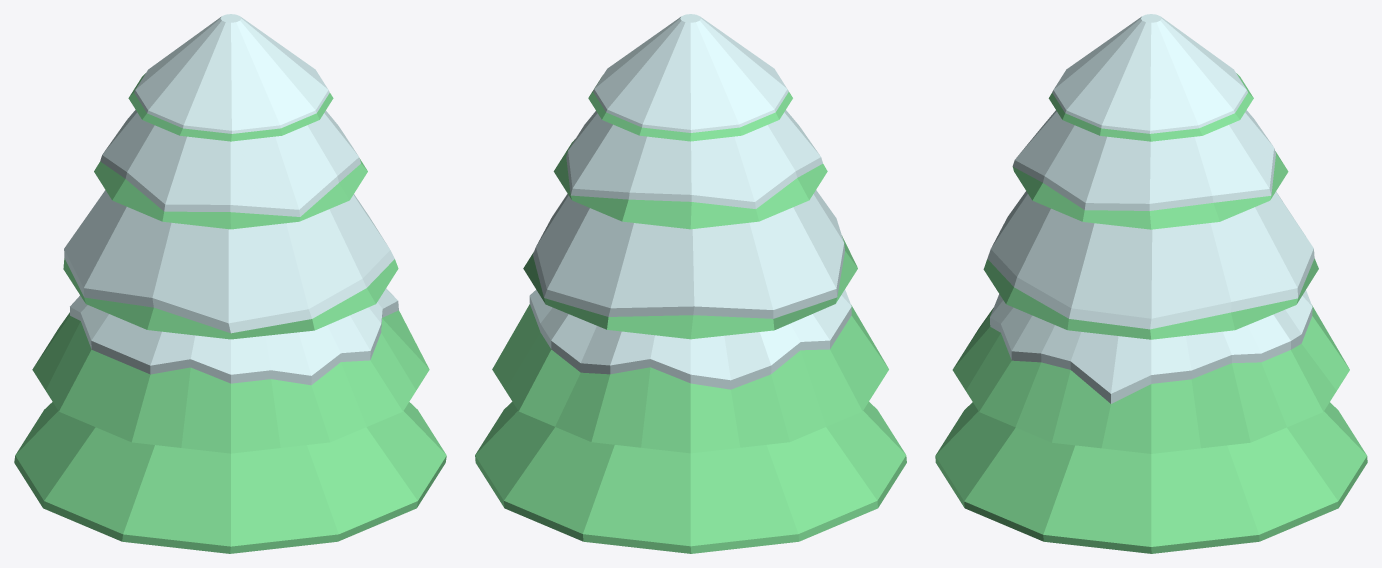
File: SpineTree.fbx
The picture shows the model from 3 angles, left to right: view 1: azimuth 30°, elevation 25°; view 2: azimuth 150°, elevation 25°; view 3: azimuth 270°, elevation 25°; orthographic projection.
Parts seen in each view (by area): view 1: Cylinder.001; view 2: Cylinder.001; view 3: Cylinder.001.
Part boxes in pixels (x1,y1,x2,y2): Cylinder.001: (14,14,446,553); Cylinder.001: (475,14,906,553); Cylinder.001: (935,14,1367,553).
Bounding box in the file's own units: 1238 × 1539 × 1236.
